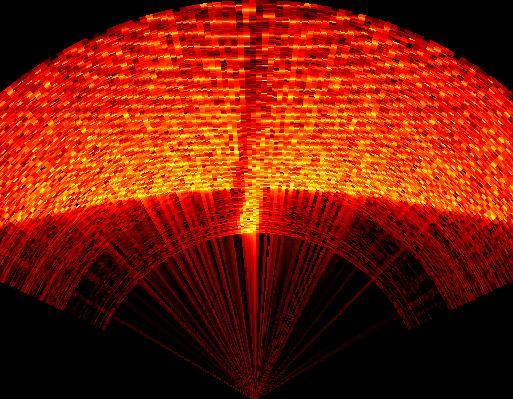pipe: (223, 6, 280, 237)
